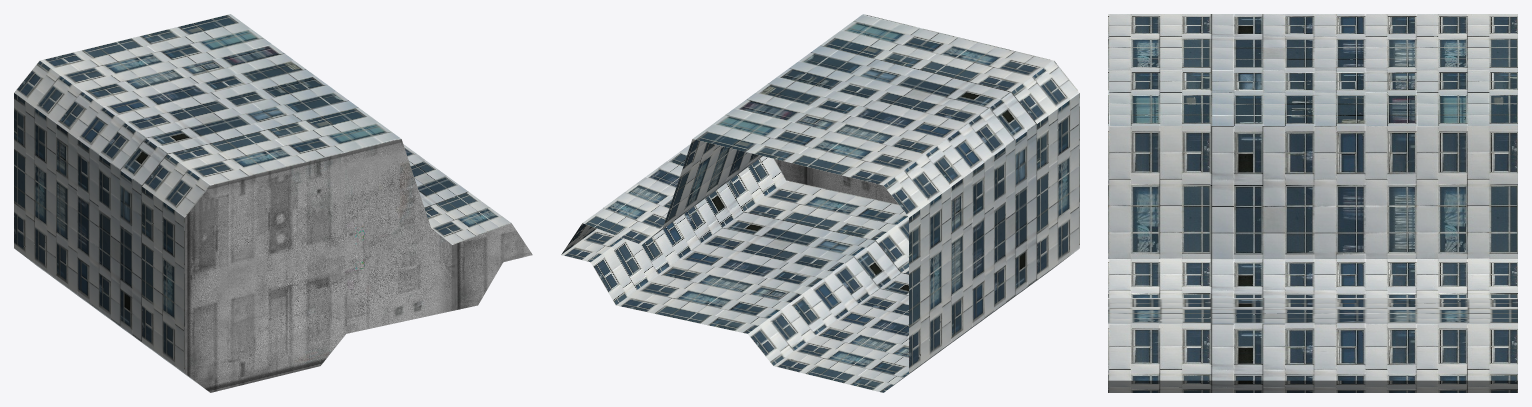
The model's file is building-56.obj.
The picture shows the model from 3 angles, left to right: view 1: azimuth 30°, elevation 25°; view 2: azimuth 150°, elevation 25°; view 3: azimuth 270°, elevation 25°; orthographic projection. The views are drawn at different scales.
Bounding box in the file's own units: 24.59 × 14 × 20.9.
